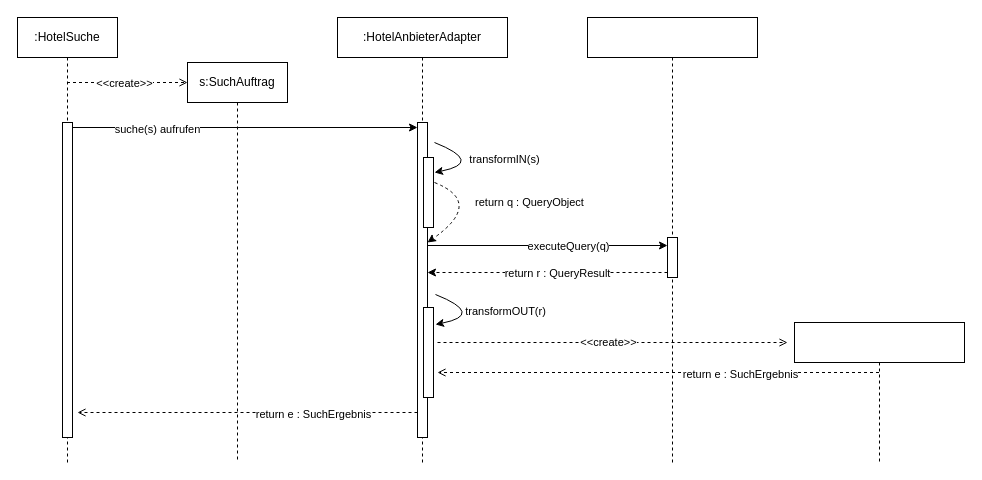
The diagram is 982 pixels wide and 480 high, and some of its shapes have lost their labels. Each missing label, with the centre of its shape:
e:SuchErgebnis: point (879, 392)
system:ReiseAnbieter: point (672, 239)
